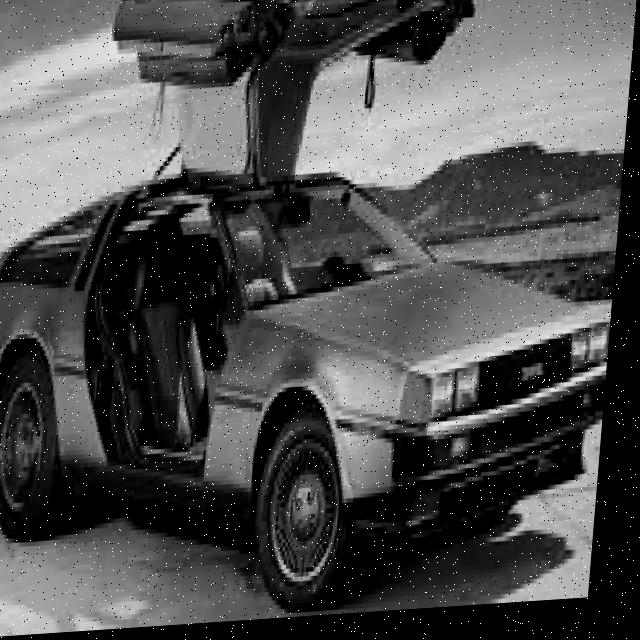car: (0, 126, 630, 591)
